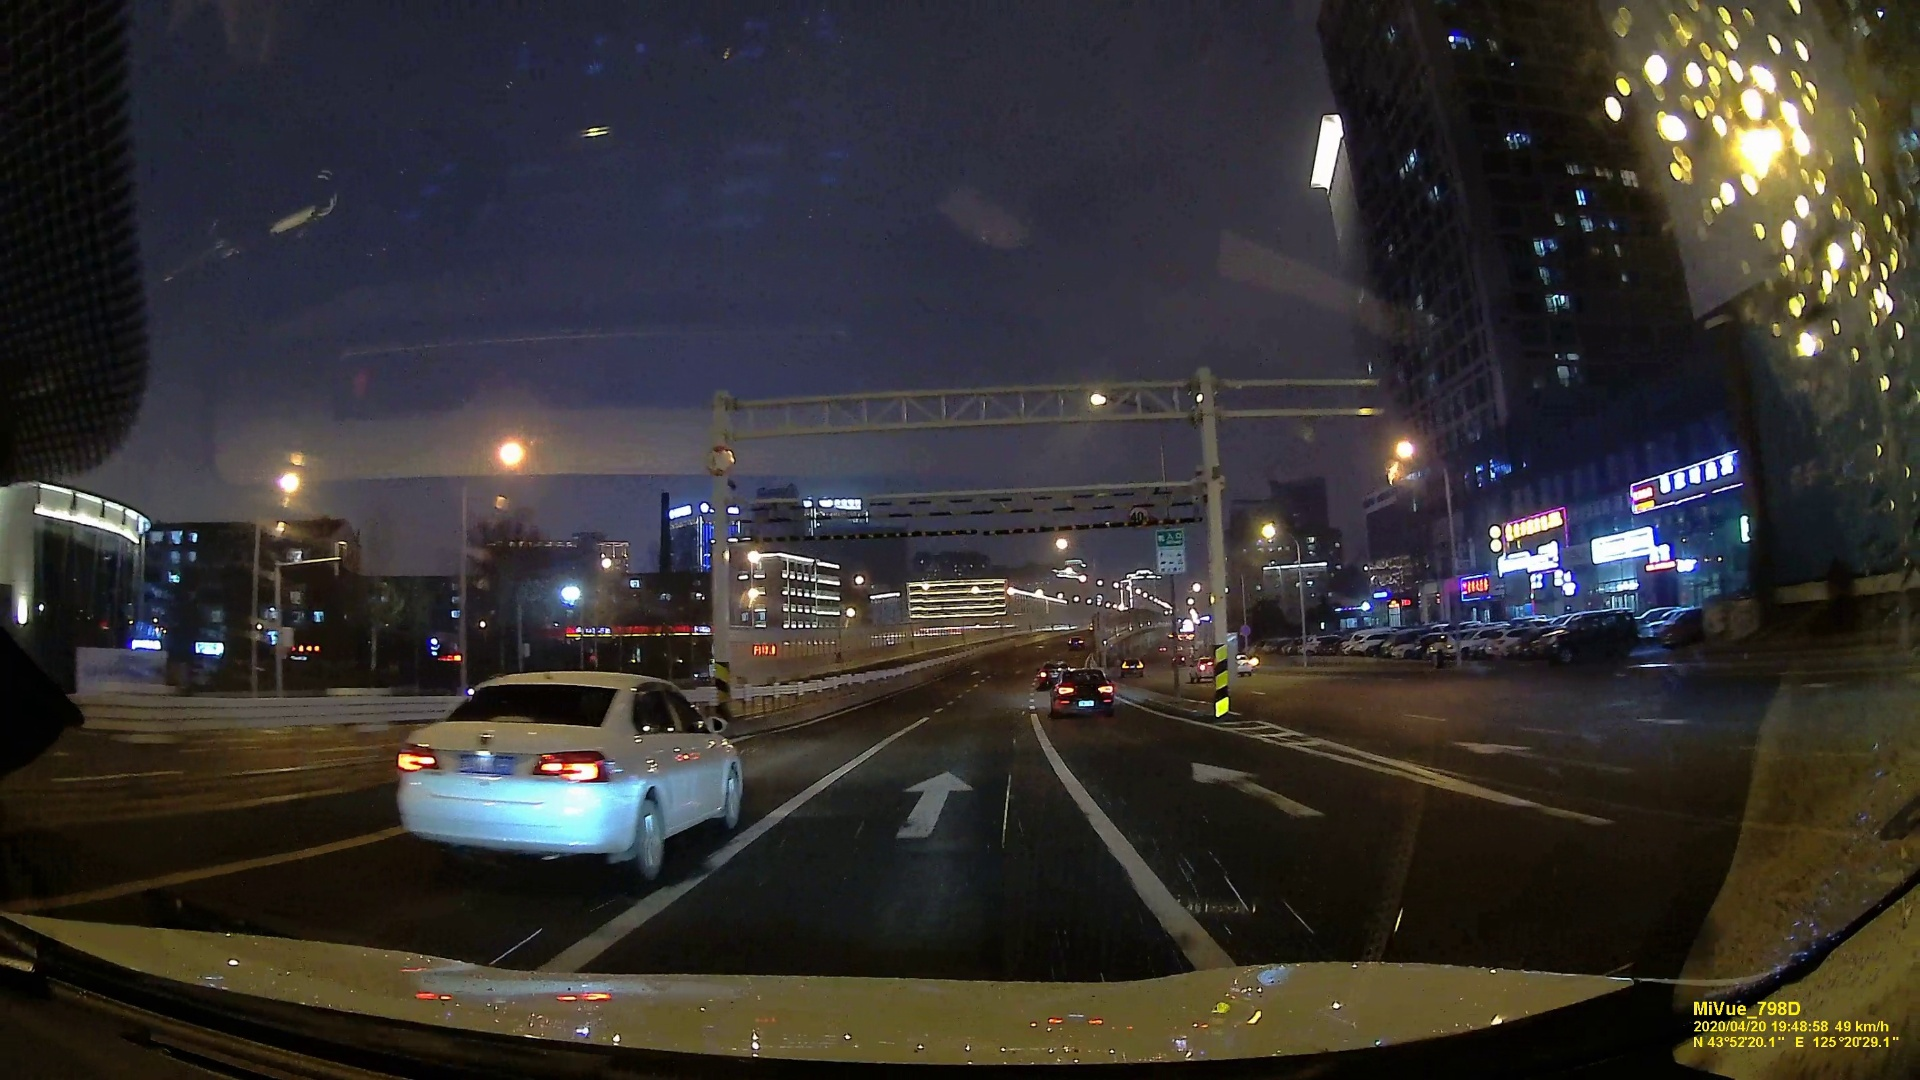traffic_sign: (1156, 527, 1188, 575), (1127, 506, 1151, 531)
vehicle: (384, 666, 746, 884), (1048, 666, 1114, 719), (1118, 658, 1146, 678)
